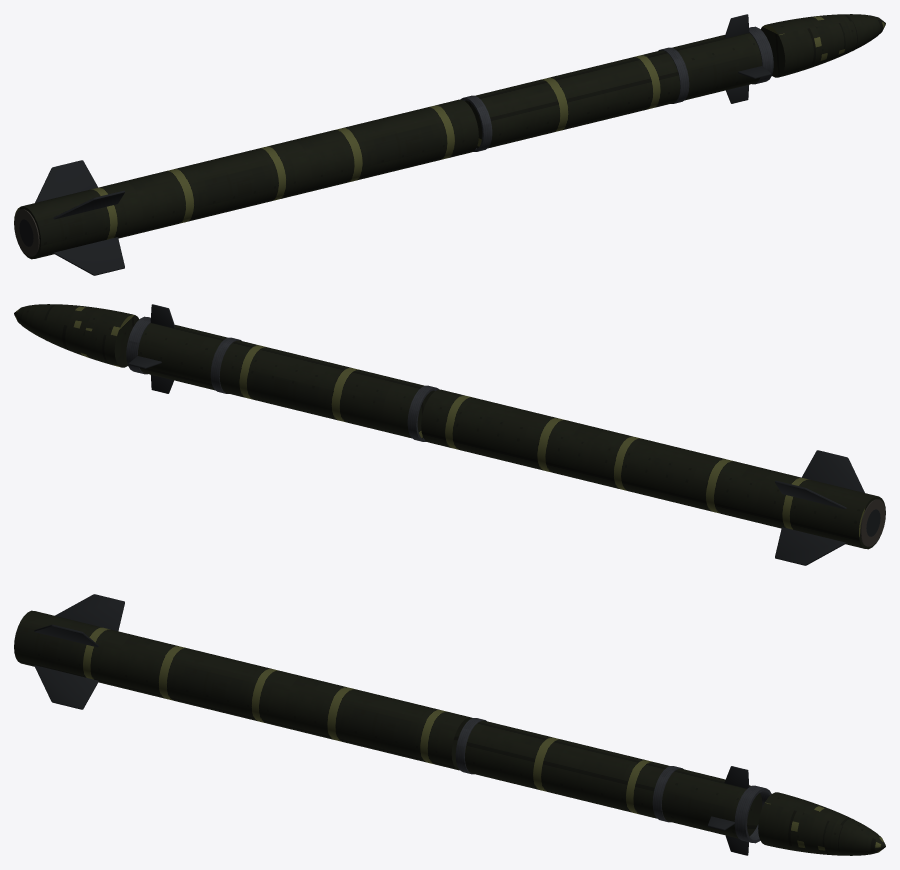
The model's file is mun_rocket.glb.
3 views of the same model, one above another, from view 1: azimuth 30°, elevation 25°; view 2: azimuth 150°, elevation 25°; view 3: azimuth 330°, elevation 25° (orthographic).
Parts seen in each view (by area): view 1: mun_rocket; view 2: mun_rocket; view 3: mun_rocket.
Boxes of the visible parts, x1,y1,x2,y2 form: mun_rocket: (14,14,885,275); mun_rocket: (14,304,885,565); mun_rocket: (14,594,885,855).
Size of the model in its own units: 3.93 by 0.3742 by 0.3742.
Materials: 4 (2 with a texture image).
